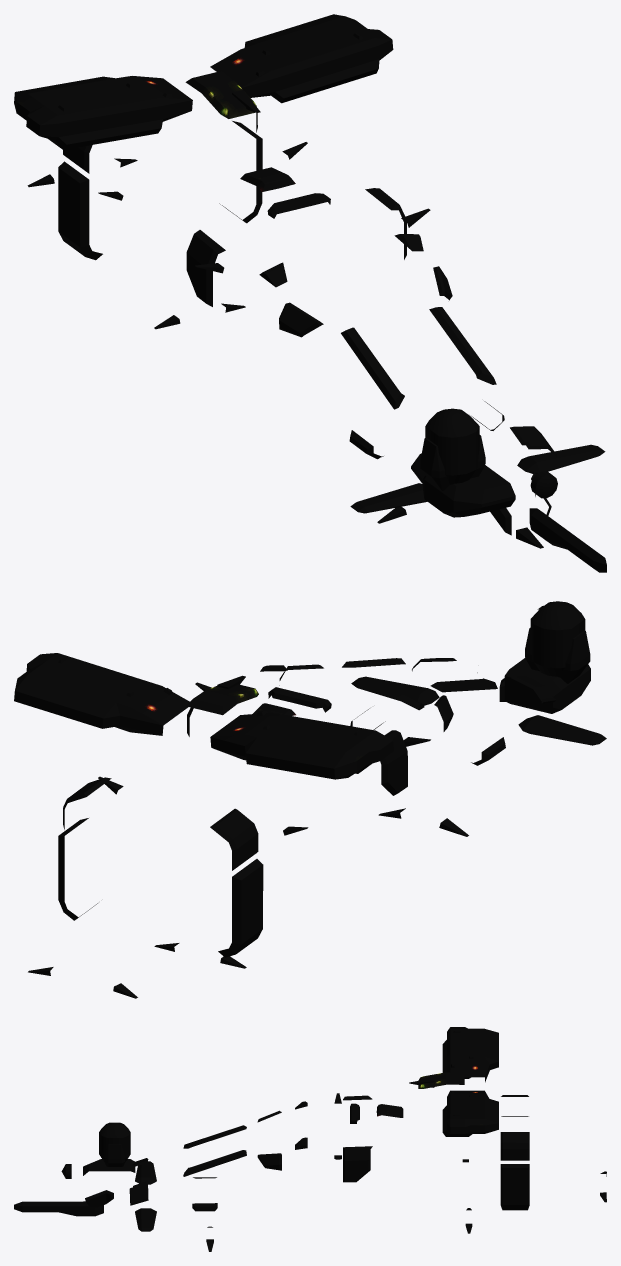
The model's file is tan_missile_frigate_01_t1.glb.
3 renders of one model, top to bottom at view 1: azimuth 30°, elevation 25°; view 2: azimuth 150°, elevation 25°; view 3: azimuth 270°, elevation 25°, orthographic. The views are drawn at different scales.
Visible parts, largest first — view 1: tan_missile_frigate_01_t1_LOD0; view 2: tan_missile_frigate_01_t1_LOD0; view 3: tan_missile_frigate_01_t1_LOD0.
Boxes of the visible parts, x1=… form: tan_missile_frigate_01_t1_LOD0: x1=14, y1=14, x2=606, y2=572; tan_missile_frigate_01_t1_LOD0: x1=14, y1=601, x2=606, y2=998; tan_missile_frigate_01_t1_LOD0: x1=14, y1=1027, x2=606, y2=1251.
Size of what is drawn, in the model's own units: 1.33 by 1.03 by 3.32.
Materials: 1 (1 with a texture image).
